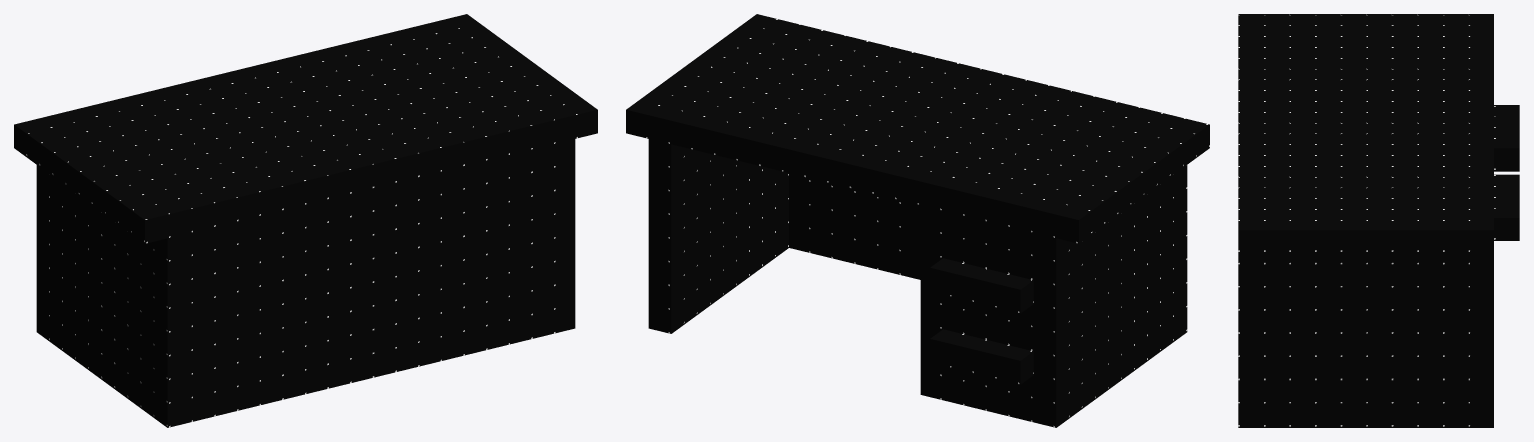
Rendered from cattedra_usv.gltf.
3 renders of one model, left to right at view 1: azimuth 30°, elevation 25°; view 2: azimuth 150°, elevation 25°; view 3: azimuth 270°, elevation 25°, orthographic. The views are drawn at different scales.
Visible parts, largest first — view 1: Layer.1, Layer.2; view 2: Layer.1, Layer.2; view 3: Layer.2, Layer.1.
Boxes of the visible parts, box(x1,y1,x2,y2) form: Layer.1: box(36, 139, 575, 427); Layer.2: box(14, 14, 597, 243); Layer.1: box(648, 139, 1187, 427); Layer.2: box(626, 14, 1209, 243); Layer.2: box(1238, 14, 1493, 253); Layer.1: box(1238, 105, 1519, 427).
Bounding box in the file's own units: 20 × 9 × 11.
Materials: 1 (1 with a texture image).
